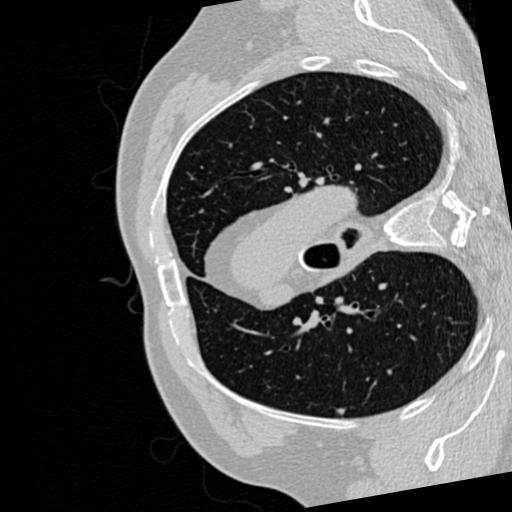nodule: (333, 405, 348, 420)
